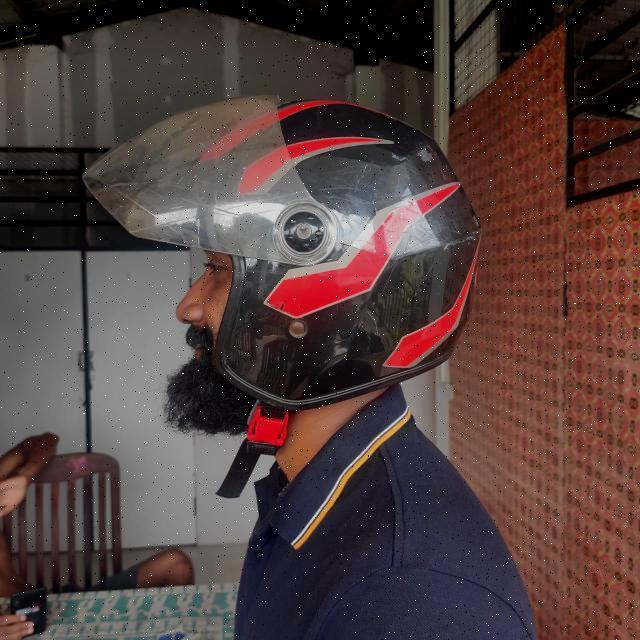helmet: (82, 93, 480, 500)
